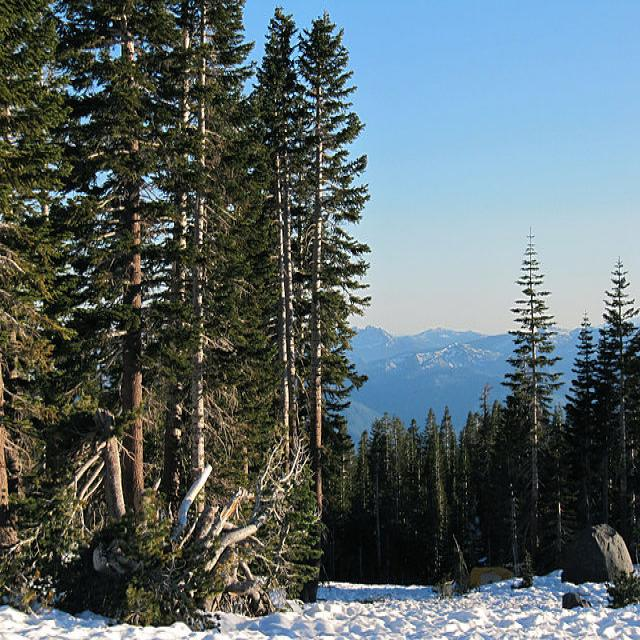Abies: (164, 0, 242, 604), (290, 8, 364, 592), (500, 202, 560, 592), (597, 263, 640, 547)
